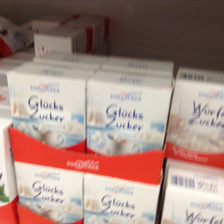sugar: (7, 61, 95, 153), (85, 69, 174, 157), (165, 67, 224, 169), (161, 166, 224, 222), (34, 24, 93, 57)
